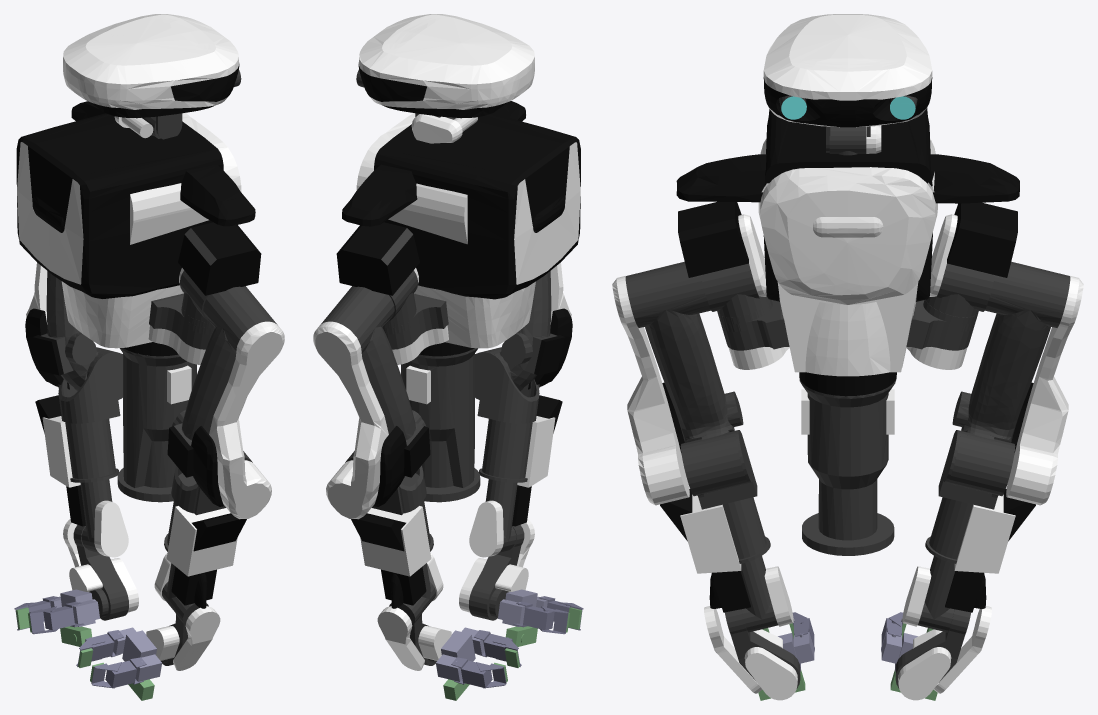
Rendered from hironx.dae.
3 views of the same model, side by side, from view 1: azimuth 30°, elevation 25°; view 2: azimuth 150°, elevation 25°; view 3: azimuth 270°, elevation 25° (orthographic). The views are drawn at different scales.
Visible parts, largest first — view 1: CHEST_JOINT0 (×9), HEAD_JOINT1 (×3), RARM_JOINT1 (×3), WAIST (×3), LARM_JOINT2 (×4), LARM_JOINT1 (×3), RARM_JOINT0 (×3), RARM_JOINT2 (×3), LARM_JOINT4 (×4), LARM_JOINT3 (×3), RARM_JOINT4 (×3), LARM_JOINT5 (×2) (+5 smaller); view 2: CHEST_JOINT0 (×9), LARM_JOINT1 (×3), HEAD_JOINT1 (×2), WAIST (×3), RARM_JOINT2 (×4), LARM_JOINT0 (×3), RARM_JOINT1 (×3), LARM_JOINT2 (×3), RARM_JOINT4 (×4), RARM_JOINT3 (×3), LARM_JOINT4 (×3), RARM_JOINT5 (×2) (+7 smaller); view 3: CHEST_JOINT0 (×9), RARM_JOINT1 (×3), LARM_JOINT1 (×3), HEAD_JOINT1 (×2), WAIST (×3), RARM_JOINT0 (×4), LARM_JOINT0 (×4), LARM_JOINT2 (×3), RARM_JOINT2 (×3), RARM_JOINT4 (×3), LARM_JOINT4 (×3), RARM_JOINT3 (×3) (+4 smaller).
Part boxes in pixels (x1,y1,x2,y2): CHEST_JOINT0 (×9): [16, 101, 255, 364]; HEAD_JOINT1 (×3): [63, 14, 239, 139]; RARM_JOINT1 (×3): [167, 286, 284, 519]; WAIST (×3): [117, 348, 196, 502]; LARM_JOINT2 (×4): [35, 352, 122, 487]; LARM_JOINT1 (×3): [25, 262, 113, 390]; RARM_JOINT0 (×3): [178, 222, 261, 334]; RARM_JOINT2 (×3): [166, 465, 246, 576]; LARM_JOINT4 (×4): [63, 519, 138, 620]; LARM_JOINT3 (×3): [66, 479, 128, 557]; RARM_JOINT4 (×3): [146, 600, 220, 670]; LARM_JOINT5 (×2): [50, 589, 99, 646]; CHEST_JOINT0 (×9): [342, 101, 580, 364]; LARM_JOINT1 (×3): [313, 286, 430, 519]; HEAD_JOINT1 (×2): [358, 14, 534, 118]; WAIST (×3): [401, 348, 480, 502]; RARM_JOINT2 (×4): [475, 352, 562, 487]; LARM_JOINT0 (×3): [336, 222, 419, 334]; RARM_JOINT1 (×3): [484, 262, 572, 390]; LARM_JOINT2 (×3): [351, 465, 431, 576]; RARM_JOINT4 (×4): [459, 519, 534, 620]; RARM_JOINT3 (×3): [469, 479, 531, 557]; LARM_JOINT4 (×3): [377, 600, 451, 670]; RARM_JOINT5 (×2): [498, 589, 547, 646]; CHEST_JOINT0 (×9): [676, 108, 1019, 396]; RARM_JOINT1 (×3): [612, 261, 748, 505]; LARM_JOINT1 (×3): [947, 261, 1083, 505]; HEAD_JOINT1 (×2): [763, 14, 932, 127]; WAIST (×3): [799, 377, 896, 555]; RARM_JOINT0 (×4): [678, 202, 771, 331]; LARM_JOINT0 (×4): [926, 202, 1017, 331]; LARM_JOINT2 (×3): [929, 430, 1015, 573]; RARM_JOINT2 (×3): [680, 430, 766, 573]; RARM_JOINT4 (×3): [704, 606, 800, 700]; LARM_JOINT4 (×3): [895, 606, 991, 700]; RARM_JOINT3 (×3): [711, 556, 793, 632].
Bounding box in the file's own units: 0.2867 × 0.6096 × 0.9692.
